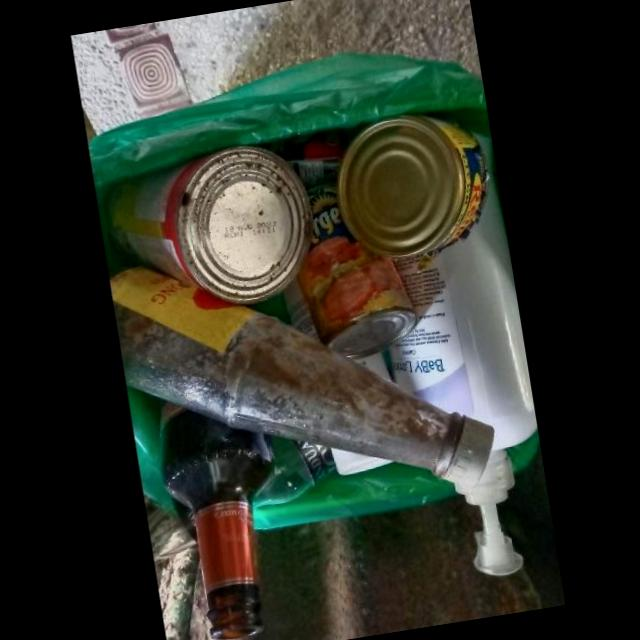chai_thuy_tinh: (159, 399, 276, 640), (252, 436, 337, 508), (148, 499, 198, 563)
hop_nhua: (384, 130, 539, 575)
nhom: (108, 144, 314, 304), (337, 111, 490, 257), (297, 180, 419, 359)
